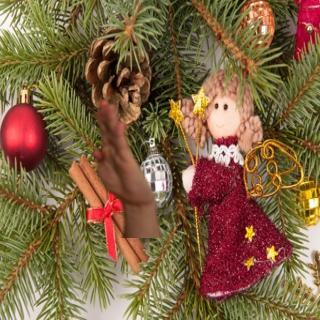RIGHT: (90, 95, 156, 206)
